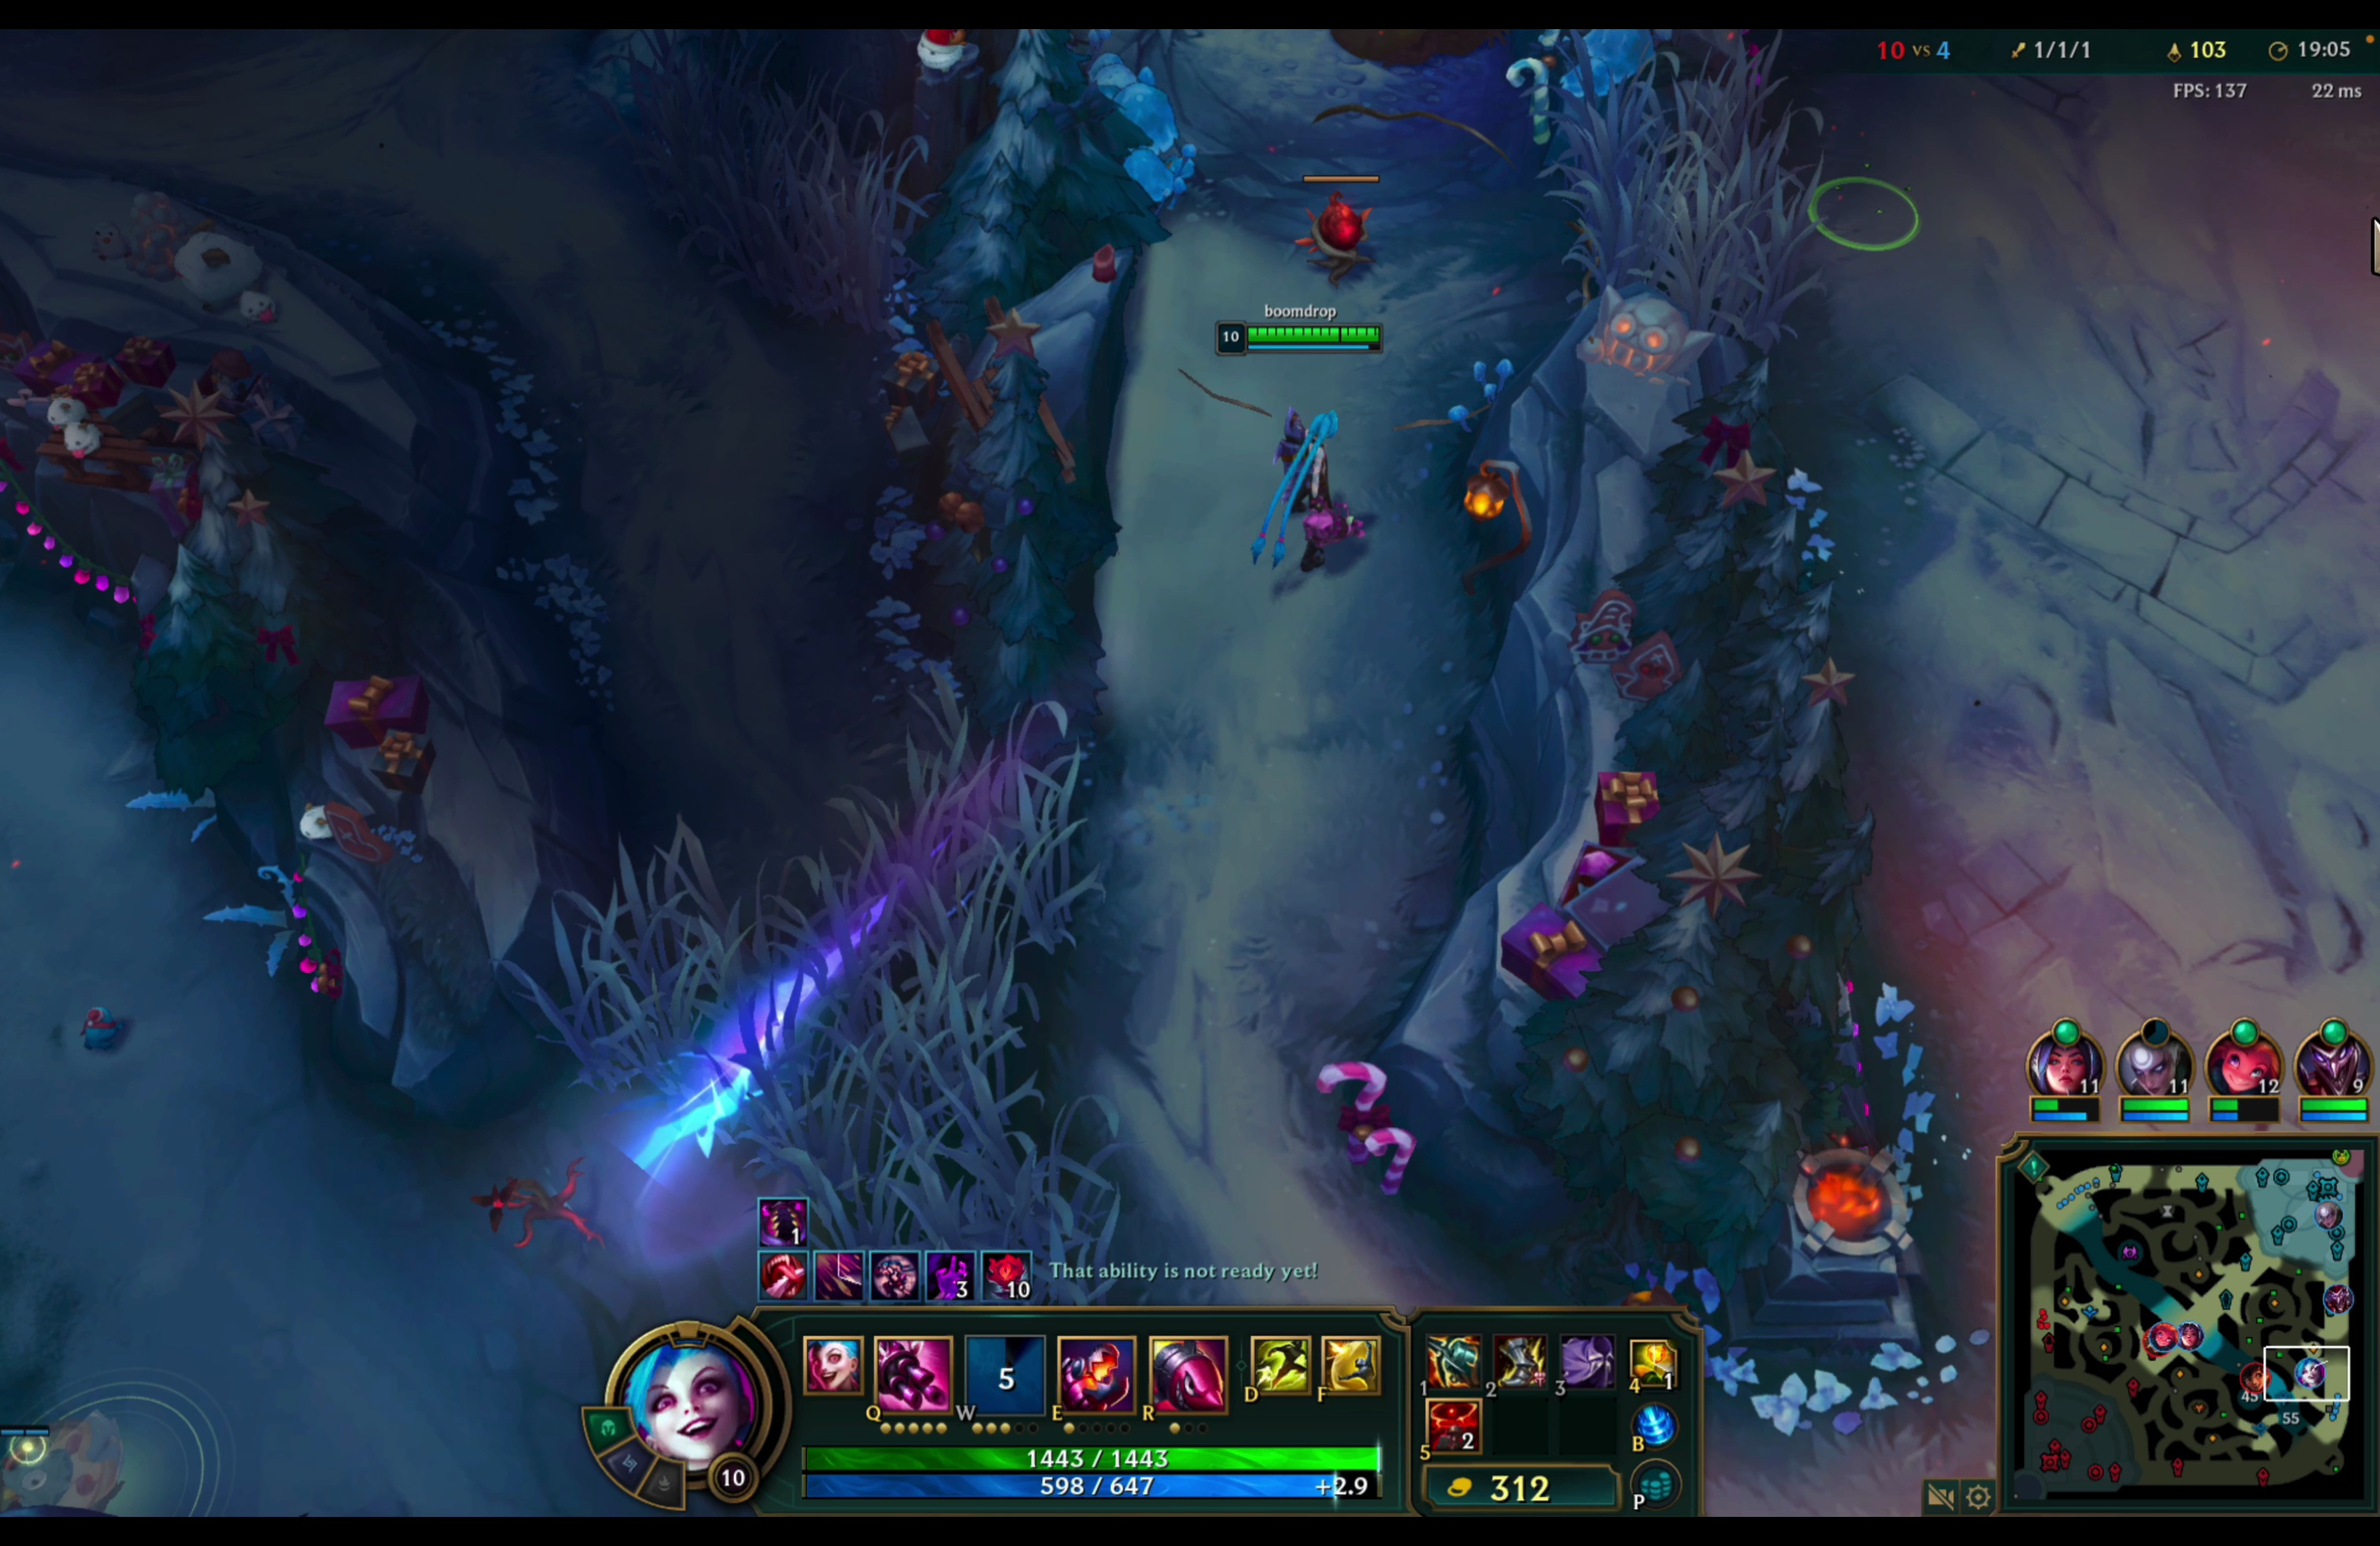JINX_W_PROJECTILE: (600, 852, 928, 1208)
